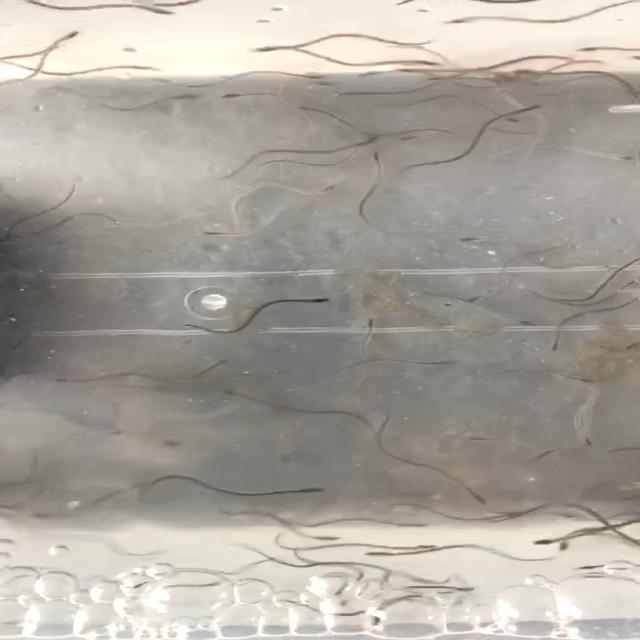active_glass_eel: (111, 0, 176, 16), (473, 106, 523, 126), (374, 514, 424, 532), (286, 66, 334, 84), (51, 28, 94, 48), (464, 286, 505, 306), (519, 444, 560, 464), (308, 177, 356, 194), (352, 317, 386, 340), (451, 433, 501, 448), (448, 15, 497, 30), (542, 330, 572, 354), (39, 370, 84, 386), (446, 234, 500, 247), (248, 44, 298, 58), (159, 92, 217, 104), (388, 130, 431, 146), (457, 486, 491, 506), (484, 76, 512, 100), (492, 314, 536, 329), (524, 531, 574, 544), (550, 372, 596, 386), (294, 292, 334, 308), (211, 90, 250, 106), (120, 63, 163, 77), (590, 153, 639, 165), (294, 532, 336, 546), (393, 540, 435, 554), (215, 386, 243, 406), (404, 56, 444, 69), (552, 532, 575, 554), (419, 354, 461, 366), (193, 227, 238, 238), (573, 44, 614, 56), (573, 562, 614, 574), (288, 482, 328, 494), (359, 546, 393, 560), (292, 104, 324, 118), (362, 146, 386, 164), (509, 64, 544, 76), (577, 432, 595, 449)
